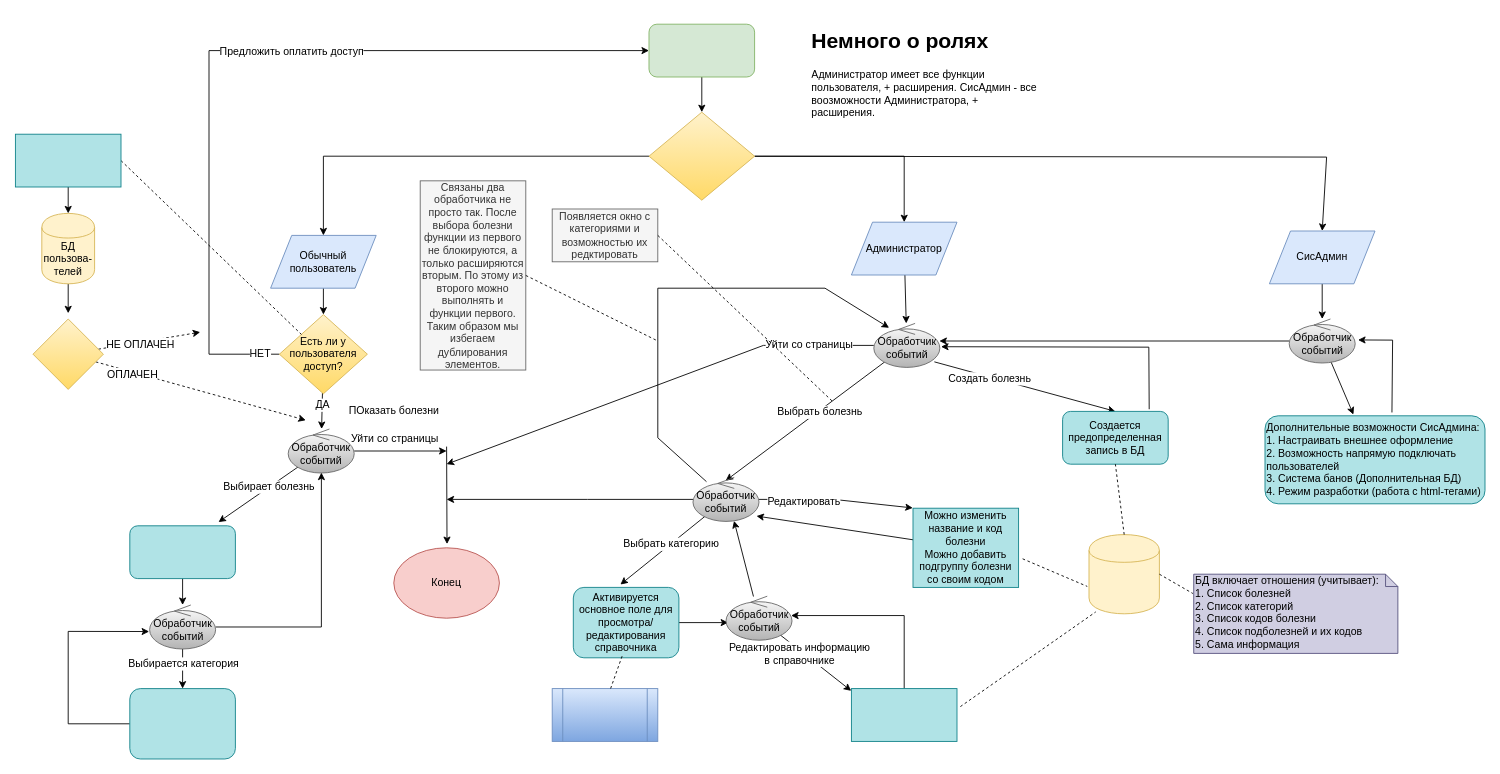
Image size: 1500x774. Some labels were removed from this diagram. Here are the shapes that lost their labels. From the top down, the box of each, then its label:
(648, 23, 755, 77): Осуществлен переход на страницу "Справочник"
(15, 133, 121, 187): Запросить данные из БД по ID текущего пользователя
(648, 111, 755, 200): Определение пользователя
(32, 318, 103, 389): Проверить статус
(129, 525, 235, 579): Выбрана болезь, появляется окно категорий
(1088, 534, 1159, 614): БД - справочник
(129, 688, 235, 759): Выбрана категория, высвечивается информация в соответствующем окне.
(551, 688, 658, 741): Интеграция ворда
(851, 688, 957, 741): Обновляется соответствующий атрибут в БД
